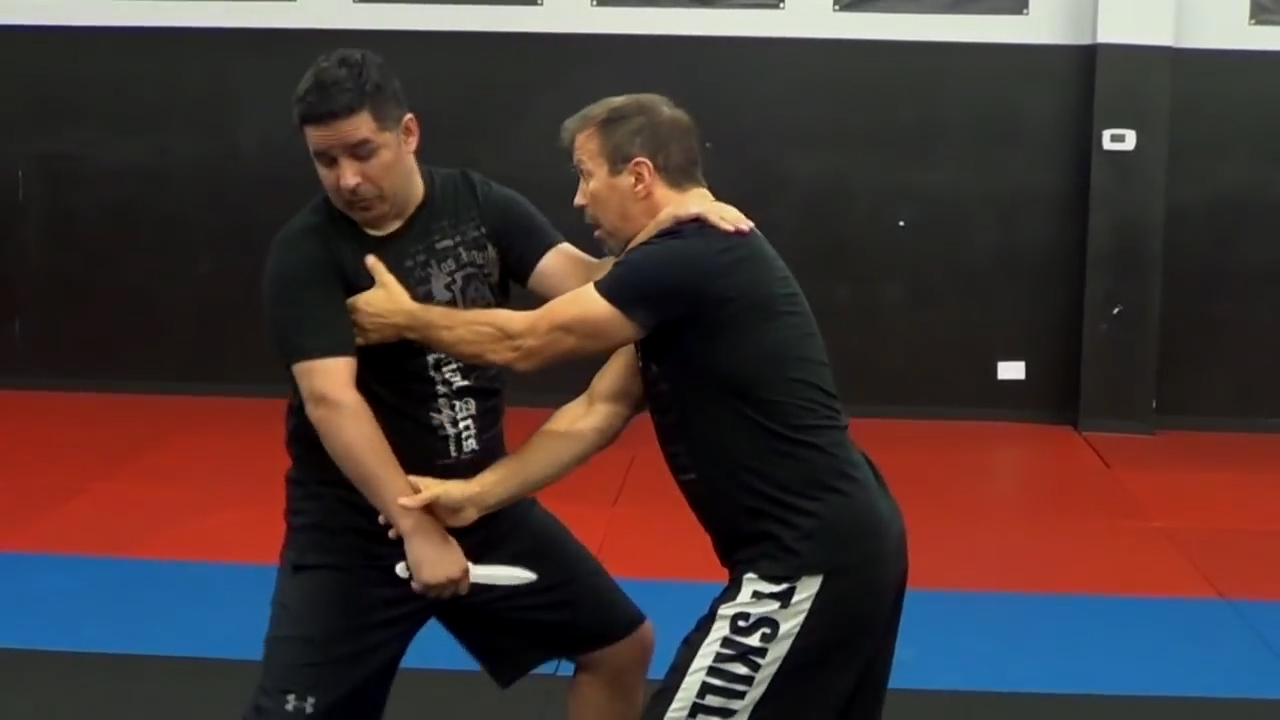knife: (390, 553, 545, 596)
